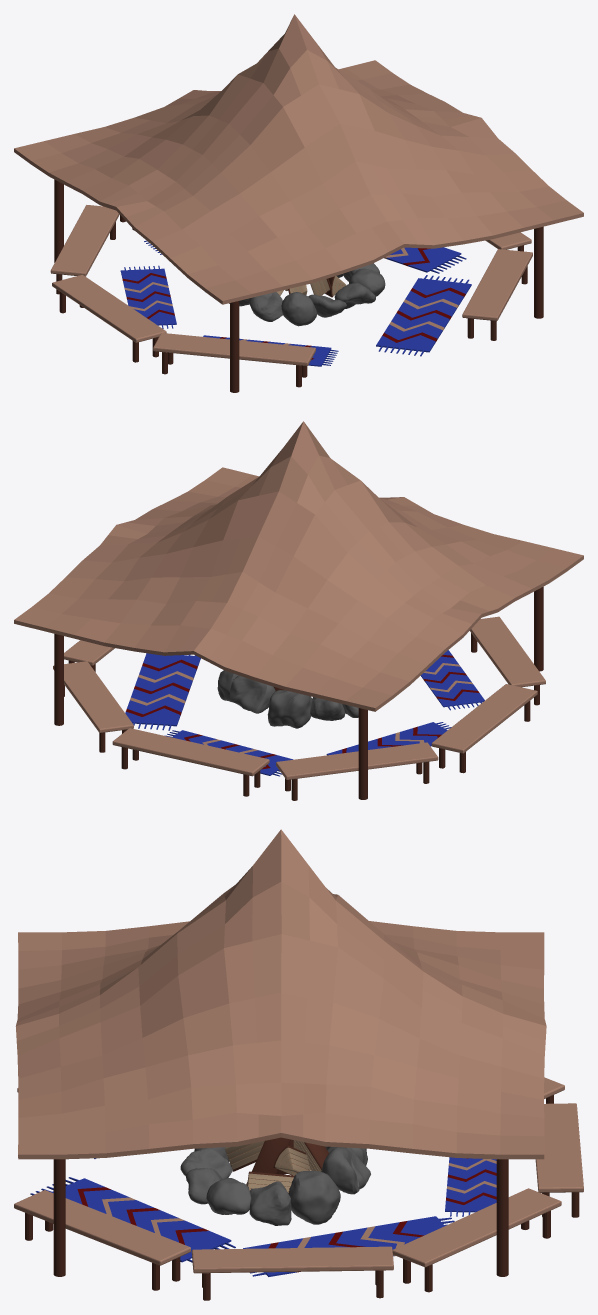
The model's file is sosalnaya_jarovnya.fbx.
3 views of the same model, one above another, from view 1: azimuth 30°, elevation 25°; view 2: azimuth 150°, elevation 25°; view 3: azimuth 270°, elevation 25° (orthographic). The views are drawn at different scales.
Visible parts, largest first — view 1: sosalnya_nuzn; view 2: sosalnya_nuzn; view 3: sosalnya_nuzn.
Boxes of the visible parts, bbox=[...] form: sosalnya_nuzn: bbox=[14, 14, 583, 392]; sosalnya_nuzn: bbox=[14, 421, 583, 800]; sosalnya_nuzn: bbox=[14, 829, 583, 1300].
Bounding box in the file's own units: 174 × 117 × 168.
